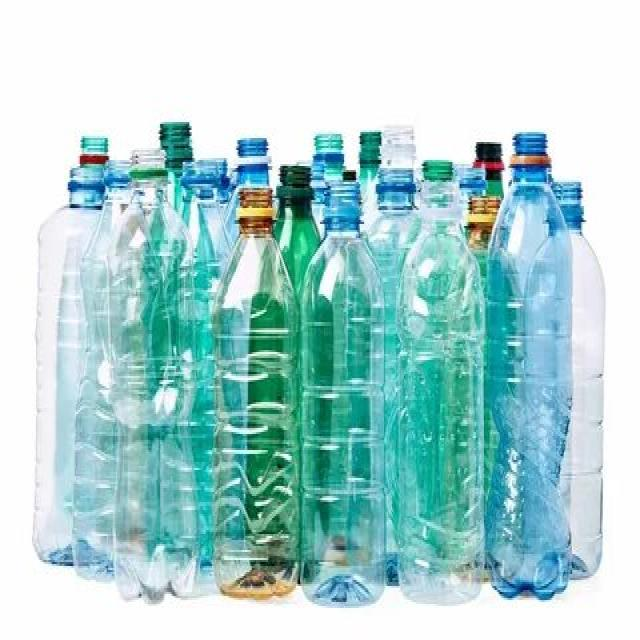blue: (487, 130, 571, 598), (300, 193, 388, 610), (35, 170, 121, 585), (566, 182, 606, 578)
green: (276, 160, 320, 252)
